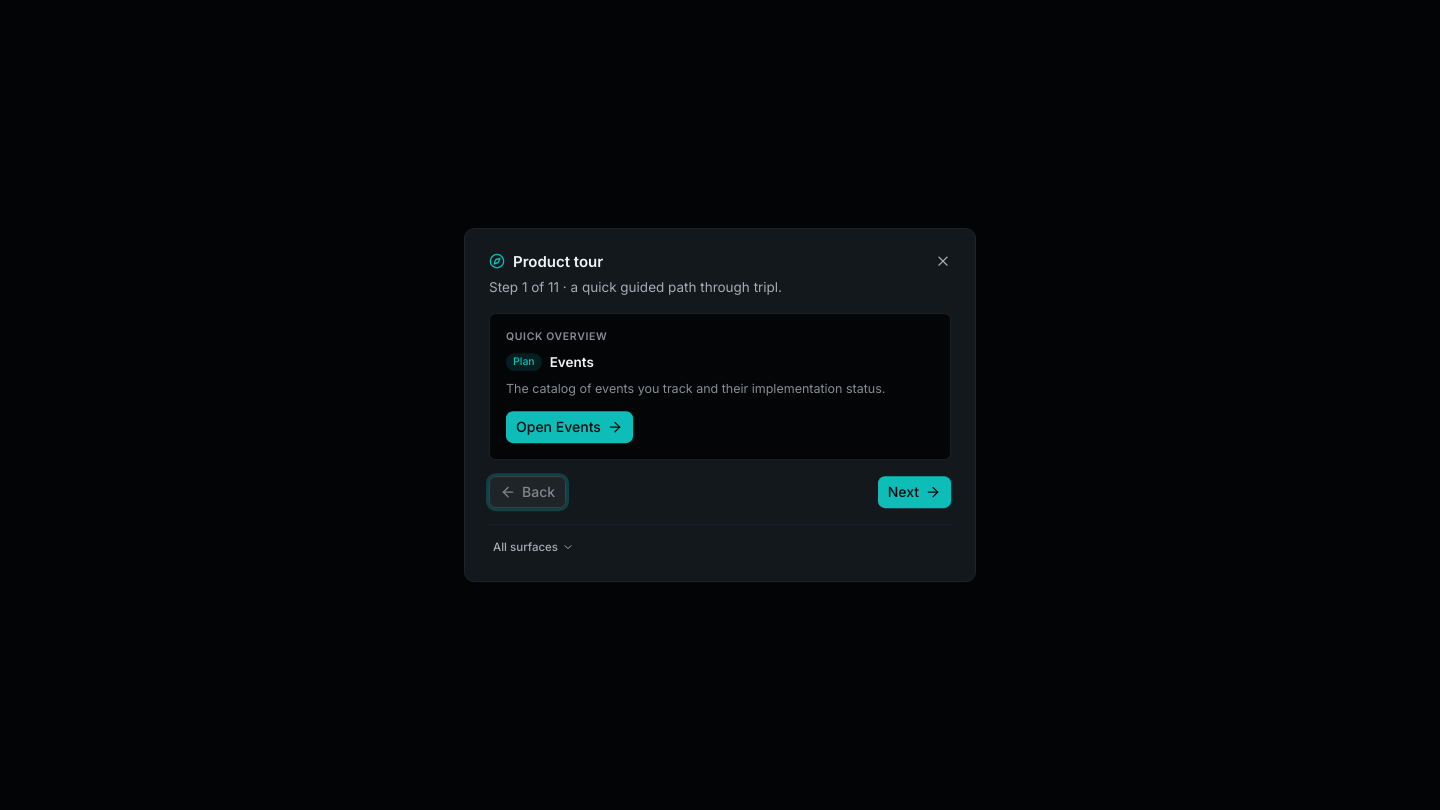
Test: ProductTour — the surface index (DEMO-20) › keeps the index behind a disclosure until asked for
Expected: the link "Scans" is not shown
Click the button "All surfaces" at (534, 547), box [489,537,578,557]
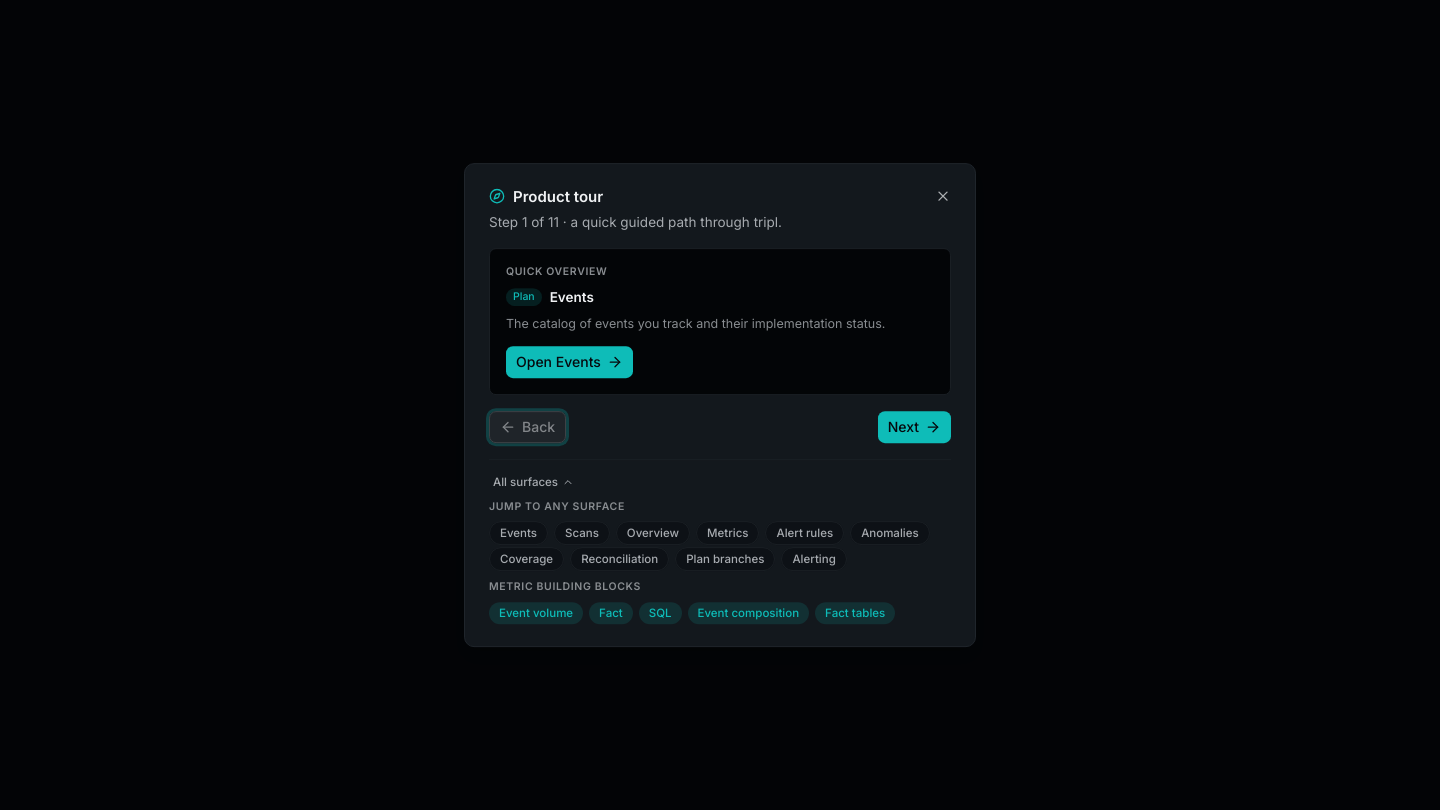
Result: the button "All surfaces" is expanded at [489,472,578,492]
Result: the link "Scans" is shown at [554,521,610,545]
